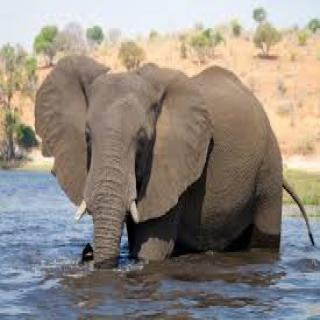Elephant: (31, 49, 318, 273)
